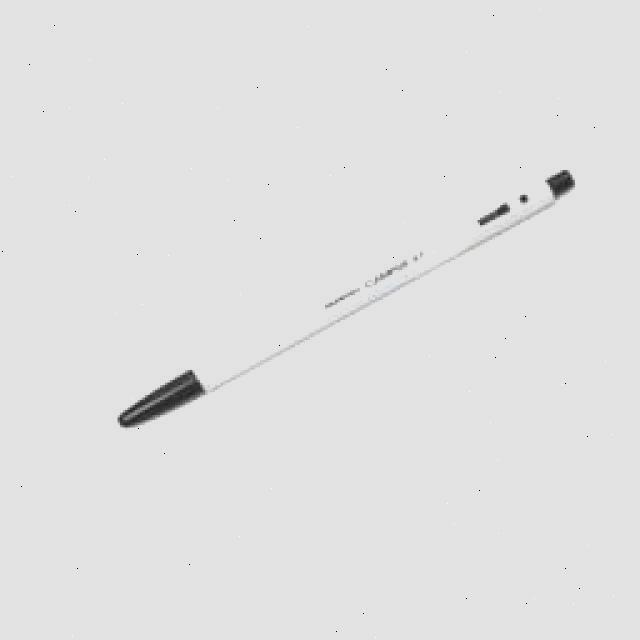pen: (113, 165, 578, 440)
